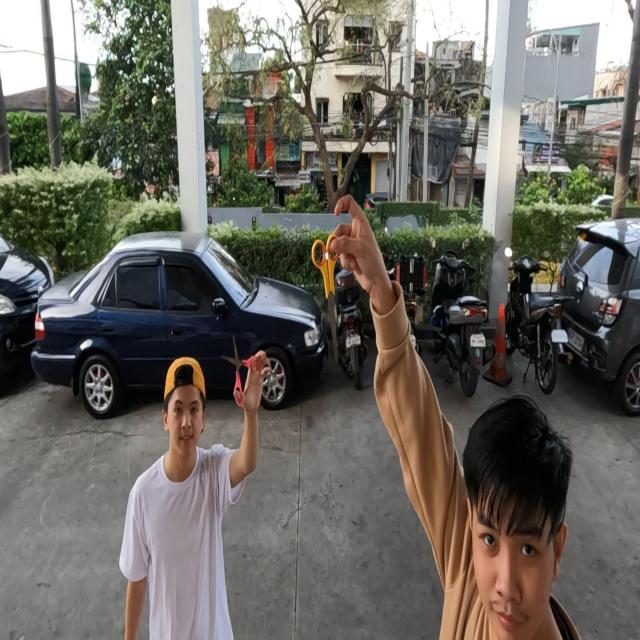scissor: (311, 234, 341, 365), (221, 334, 259, 407)
